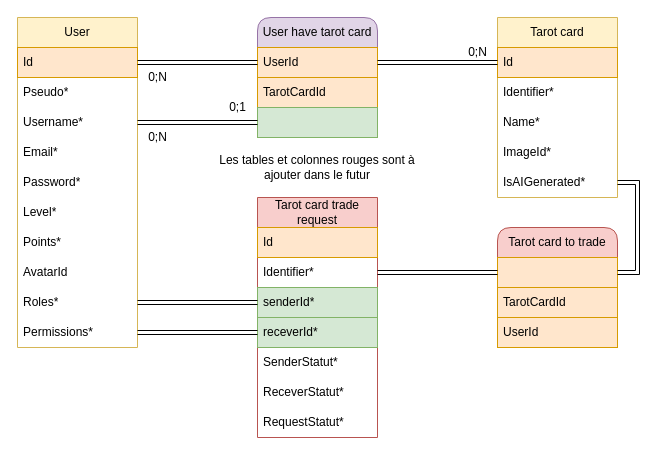
Some shapes in this 657 by 455 pixel diagram are drawn without their labels. The shapes that lost their labels are listed below. From the top down, each one's centre as x and y in pixels, then its label:
(x=317, y=122): GivenBy
(x=557, y=272): RequestId
